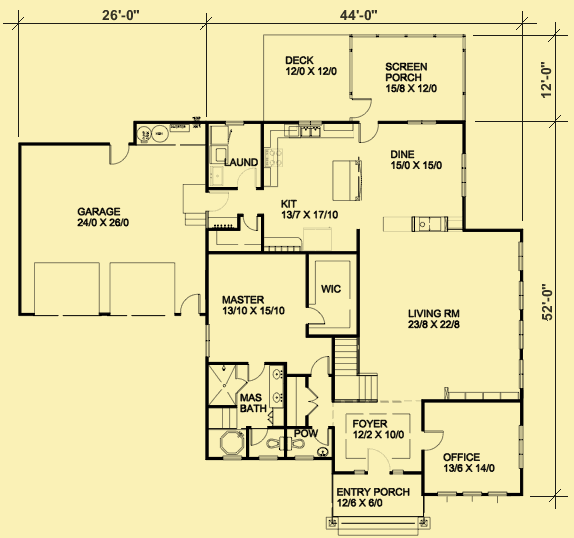door: (419, 430, 446, 454), (363, 448, 391, 471), (177, 292, 203, 315), (306, 353, 330, 377), (303, 304, 326, 329), (108, 139, 129, 166), (355, 120, 380, 142), (303, 384, 319, 418), (350, 97, 373, 120), (235, 166, 260, 187), (206, 190, 228, 212), (245, 363, 266, 382), (247, 427, 268, 446), (241, 215, 259, 231)
kitchen_bar: (331, 155, 366, 204)
large_sink: (285, 436, 305, 451)
small_sink: (269, 364, 286, 410)
stairs: (334, 335, 381, 402)
window: (514, 422, 525, 471), (517, 359, 528, 389), (461, 152, 468, 199), (517, 241, 525, 271), (518, 317, 524, 352), (518, 281, 524, 311)
